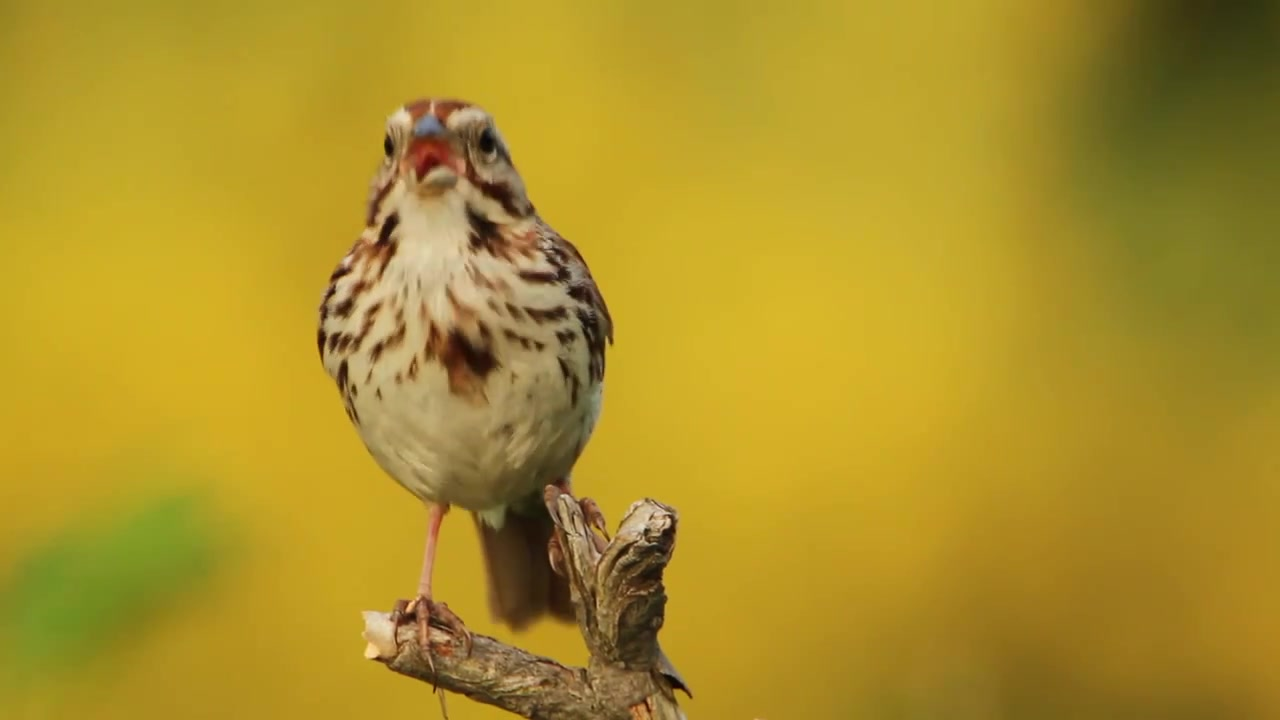bird: (318, 97, 615, 695)
